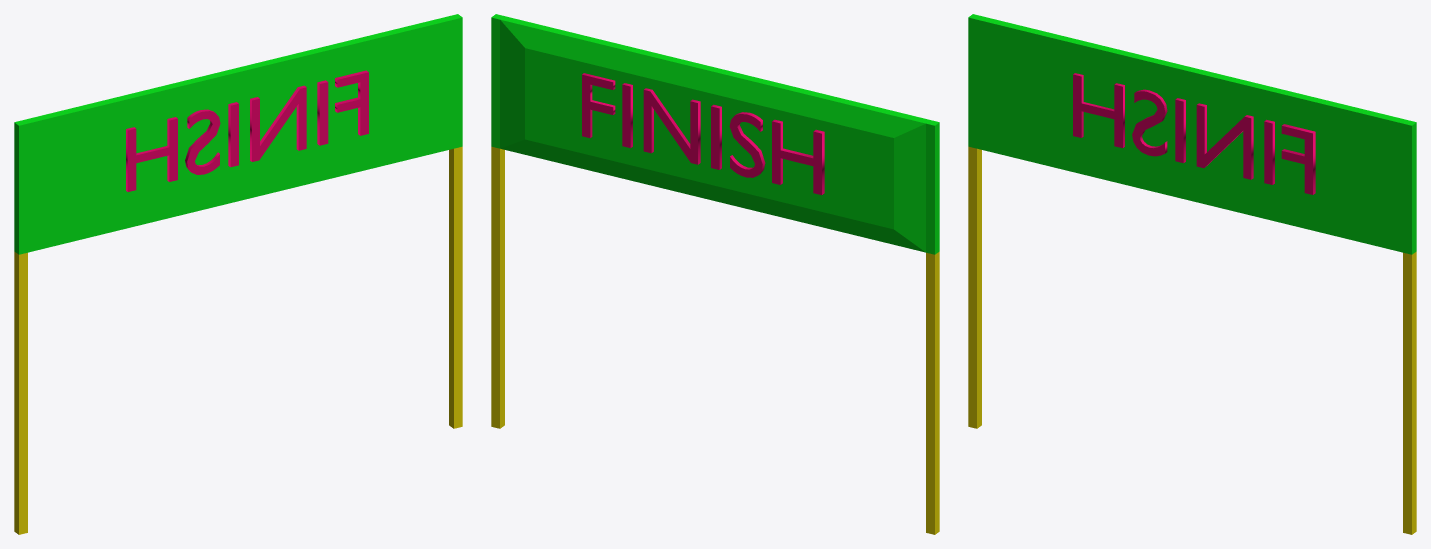
The model's file is fINISH pONT.fbx.
3 views of the same model, side by side, from view 1: azimuth 30°, elevation 25°; view 2: azimuth 150°, elevation 25°; view 3: azimuth 330°, elevation 25° (orthographic).
Visible parts, largest first — view 1: Cube.011; view 2: Cube.011; view 3: Cube.011.
Part boxes in pixels (bbox=[...]): Cube.011: bbox=[14, 14, 462, 534]; Cube.011: bbox=[491, 14, 939, 534]; Cube.011: bbox=[968, 14, 1416, 534].
Bounding box in the file's own units: 514 × 453 × 27.04.
